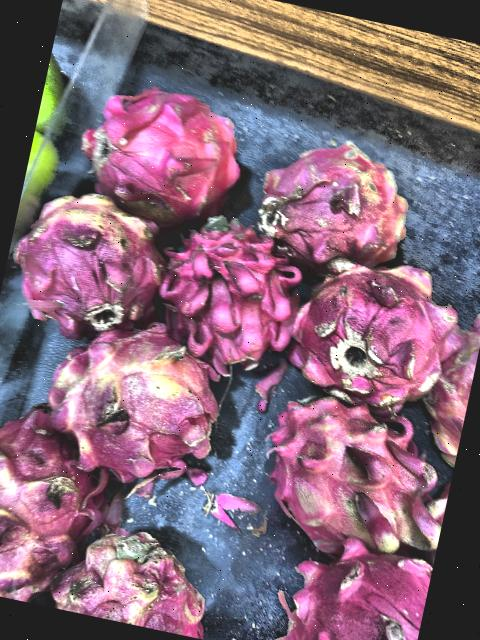buah-naga-belum-matang: (22, 302, 248, 498), (250, 372, 466, 559), (286, 238, 464, 418), (238, 119, 433, 275), (8, 178, 178, 336), (0, 397, 107, 610), (55, 516, 225, 640)
buah-naga-matang: (152, 208, 318, 379), (74, 78, 250, 224), (266, 519, 436, 640)
